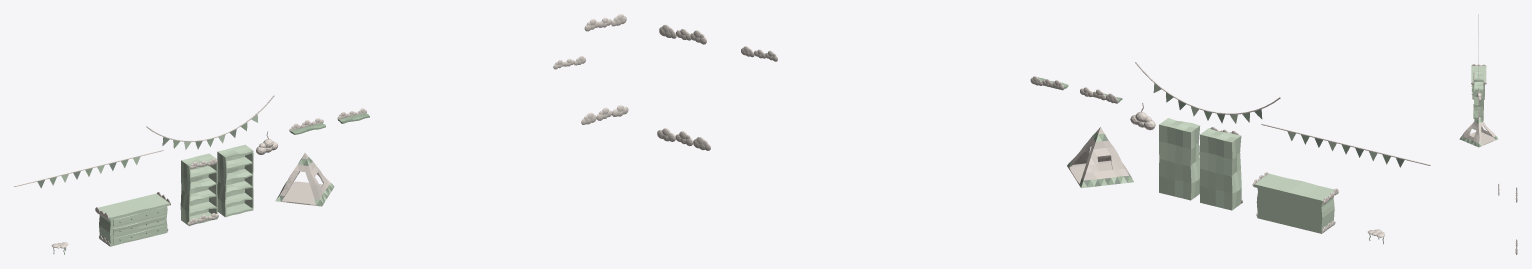
The model's file is nursery_extra_assets.fbx.
3 renders of one model, left to right at view 1: azimuth 30°, elevation 25°; view 2: azimuth 150°, elevation 25°; view 3: azimuth 270°, elevation 25°, orthographic. The views are drawn at different scales.
Visible parts, largest first — view 1: Dresser_WithDecor, Shelf_WithDecor, Shelf_NoDecor, Tent, Garland_Straight, Garland_Curved, Clouds.005, Clouds.003, WallShelf; view 2: Dresser_WithDecor, Shelf_WithDecor, Shelf_NoDecor, Tent, Garland_Straight, Garland_Curved, Clouds.005, Clouds.003; view 3: Tent, Shelf_NoDecor, Dresser_WithDecor, Shelf_WithDecor, WallShelf, WallShelf.001.
Part boxes in pixels (x1=…): Dresser_WithDecor: x1=95, y1=192, x2=170, y2=246; Shelf_WithDecor: x1=180, y1=153, x2=218, y2=226; Shelf_NoDecor: x1=217, y1=144, x2=253, y2=217; Tent: x1=275, y1=153, x2=334, y2=206; Garland_Straight: x1=14, y1=150, x2=163, y2=188; Garland_Curved: x1=146, y1=95, x2=274, y2=149; Clouds.005: x1=581, y1=105, x2=628, y2=124; Clouds.003: x1=584, y1=14, x2=626, y2=31; WallShelf: x1=289, y1=118, x2=325, y2=134; Dresser_WithDecor: x1=1252, y1=172, x2=1338, y2=233; Shelf_WithDecor: x1=1199, y1=127, x2=1242, y2=210; Shelf_NoDecor: x1=1159, y1=118, x2=1199, y2=200; Tent: x1=1067, y1=127, x2=1133, y2=188; Garland_Straight: x1=1261, y1=124, x2=1430, y2=167; Garland_Curved: x1=1135, y1=62, x2=1280, y2=123; Clouds.005: x1=657, y1=128, x2=710, y2=150; Clouds.003: x1=659, y1=24, x2=706, y2=44; Tent: x1=1459, y1=117, x2=1497, y2=147; Shelf_NoDecor: x1=1473, y1=82, x2=1483, y2=120; Dresser_WithDecor: x1=1471, y1=64, x2=1486, y2=99; Shelf_WithDecor: x1=1473, y1=72, x2=1483, y2=110; WallShelf: x1=1474, y1=95, x2=1479, y2=106; WallShelf.001: x1=1473, y1=108, x2=1479, y2=118.
Size of the model in its own units: 24.38 by 4.99 by 3.35.
